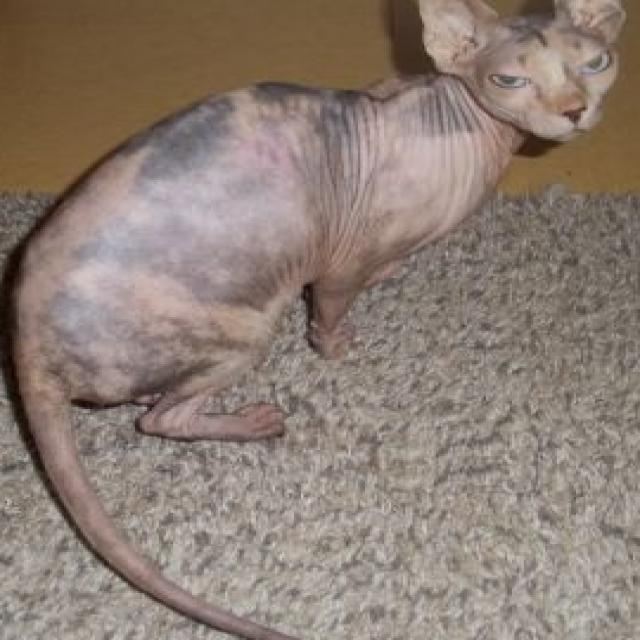Sphynx: (0, 0, 633, 640)
